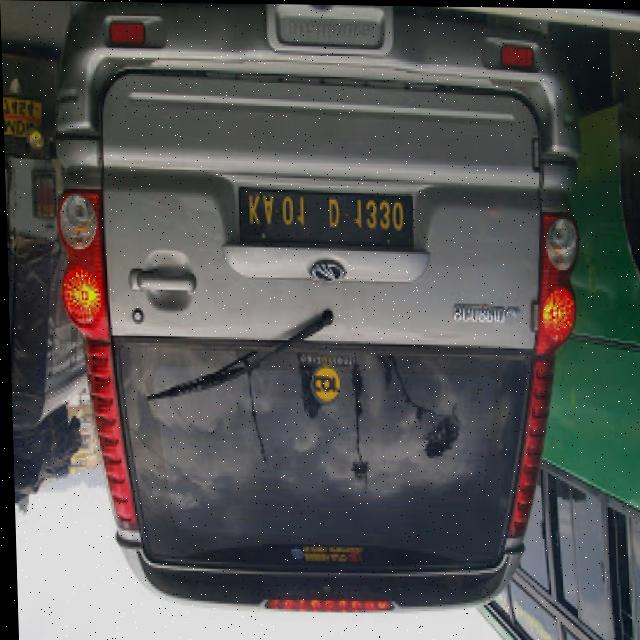plate: (237, 188, 413, 244), (2, 96, 41, 137)
